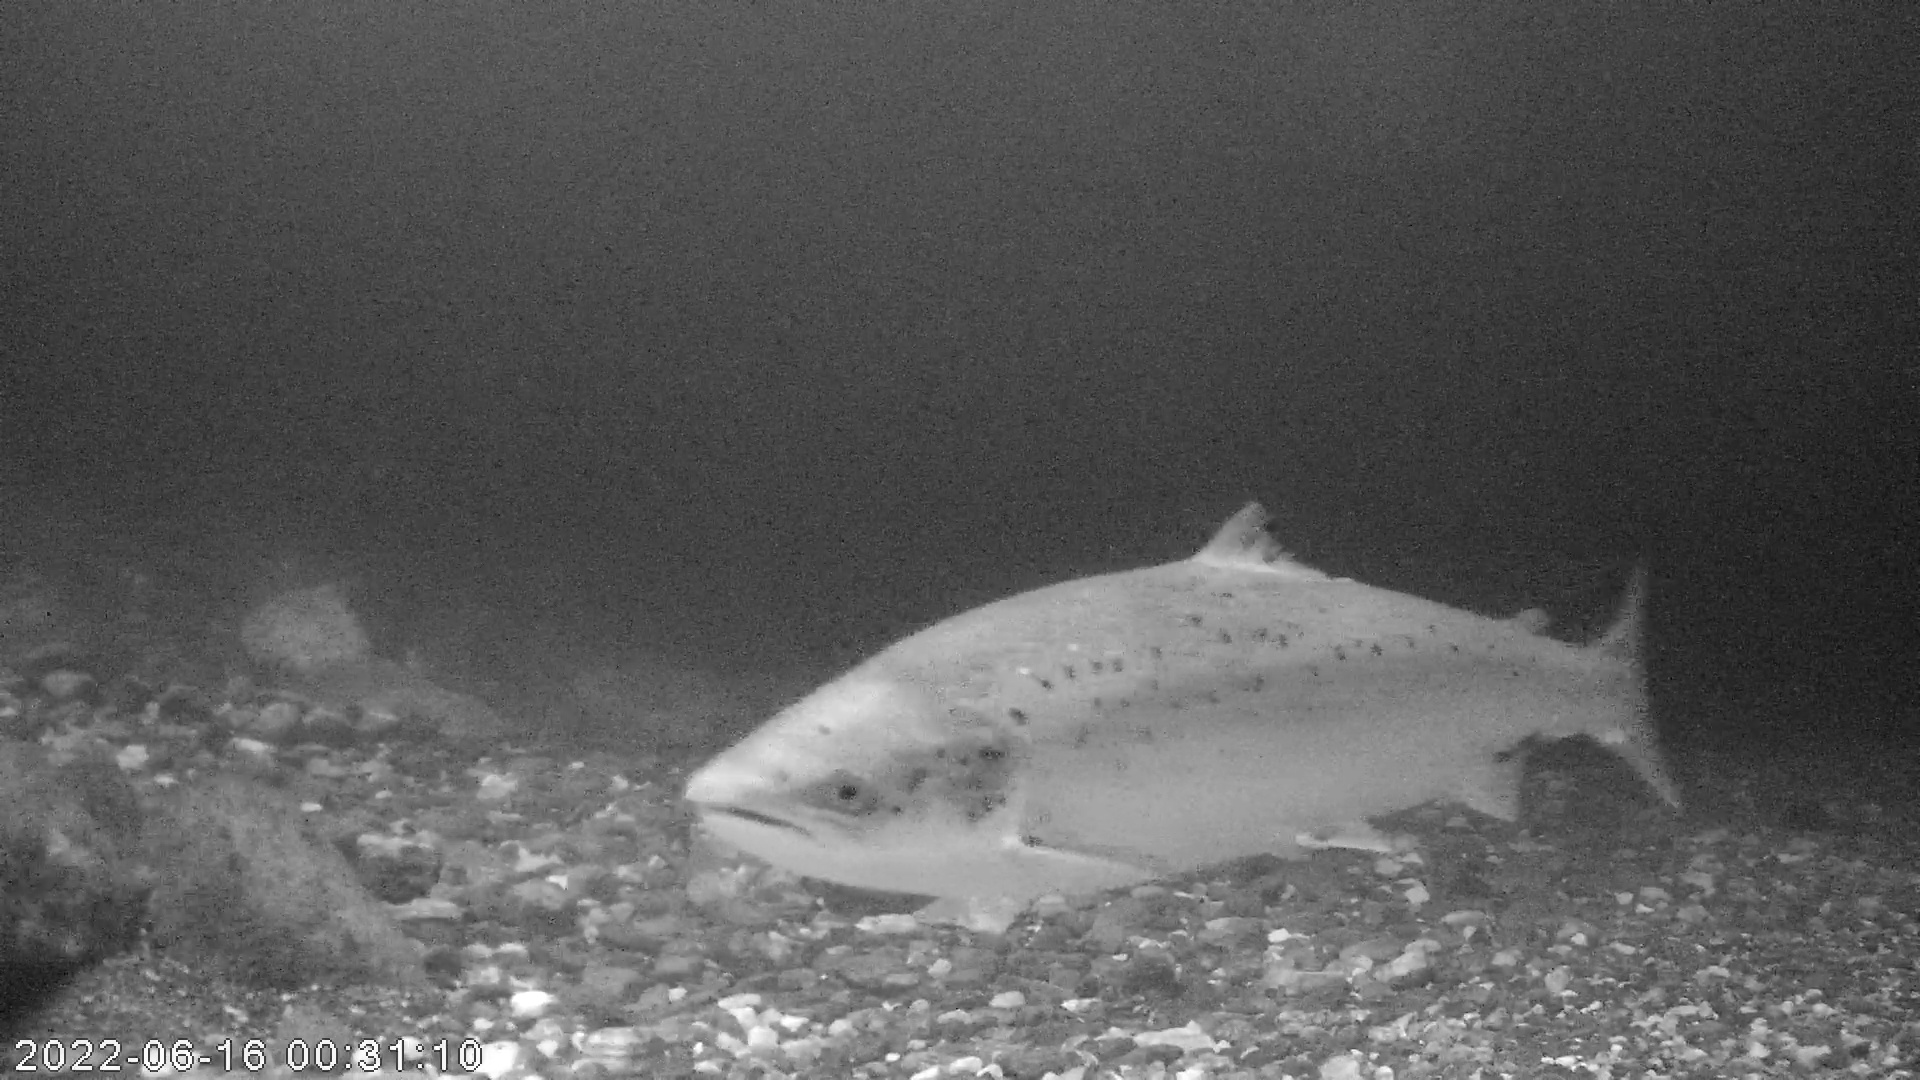salmon: (678, 495, 1687, 906)
